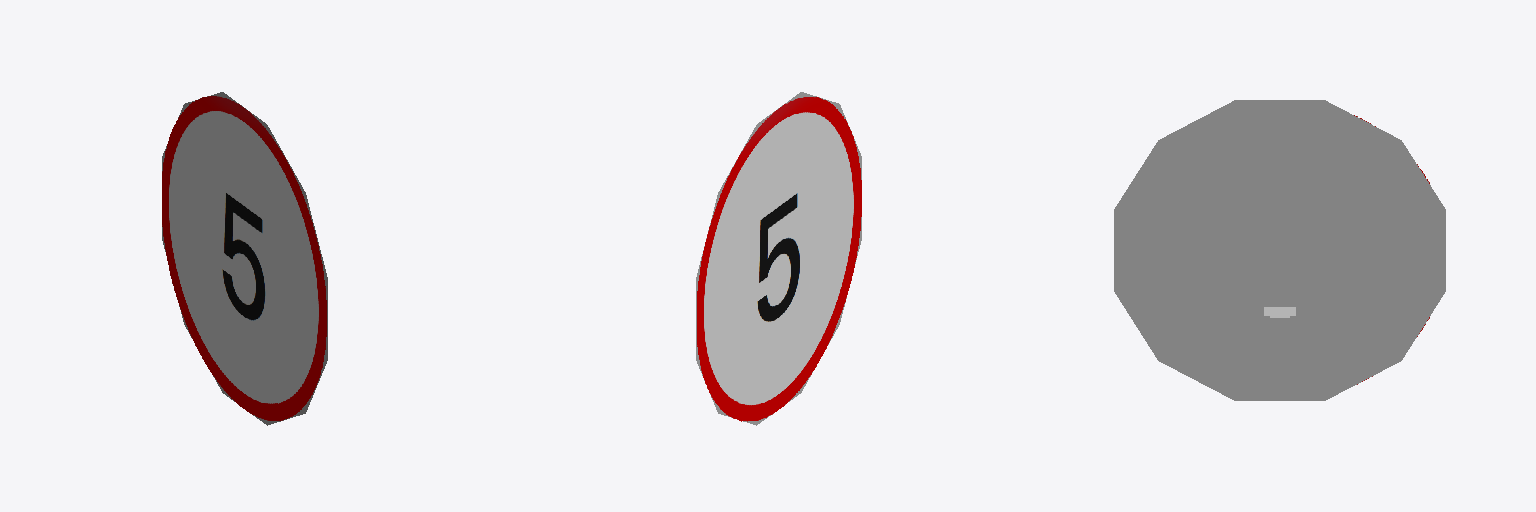
3 views of the same model, side by side, from view 1: azimuth 30°, elevation 25°; view 2: azimuth 150°, elevation 25°; view 3: azimuth 270°, elevation 25° (orthographic).
Visible parts, largest first — view 1: cube, circle; view 2: cube, circle; view 3: circle, cube.
Boxes of the visible parts, x1,y1,x2,y2 form: cube: [162, 96, 326, 420]; circle: [162, 92, 327, 425]; cube: [697, 97, 861, 421]; circle: [696, 92, 861, 425]; circle: [1114, 100, 1445, 400]; cube: [1264, 115, 1429, 384].
Bounding box in the file's own units: 0.0797 × 1 × 1.
2 materials, 1 textured.